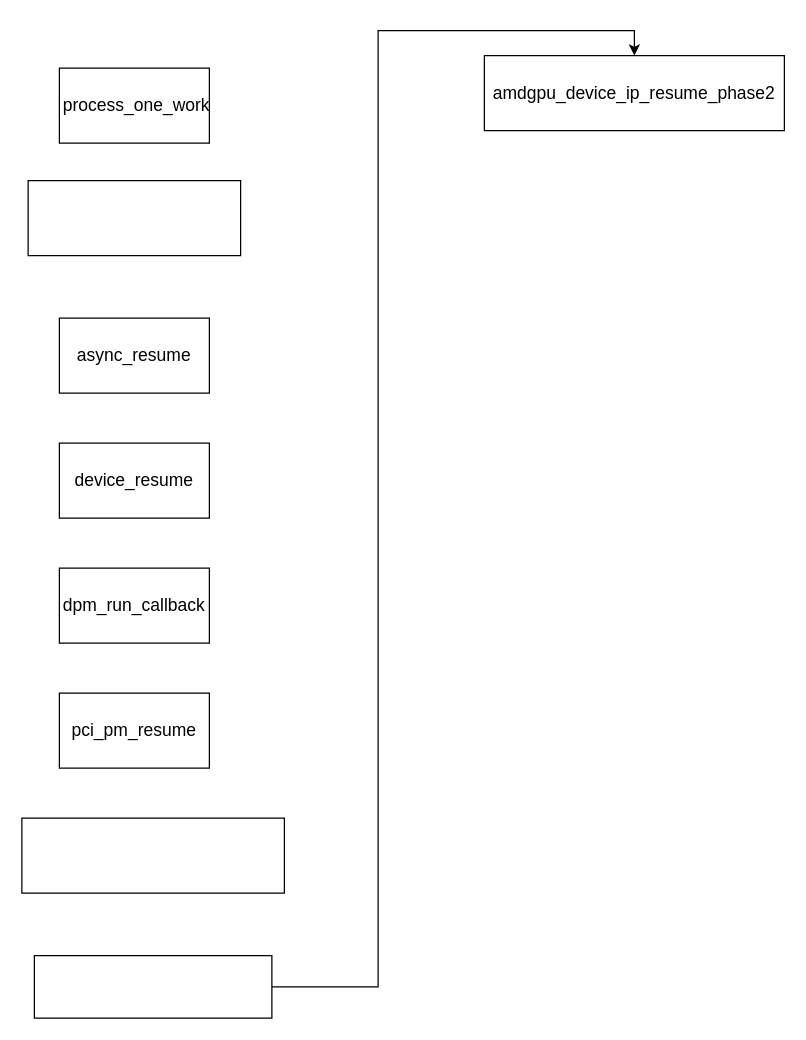
This 806x1040 diagram has some shape labels left out. The centre of each missing label's shape, as x and y in pixels:
amdgpu_device_resume: the point at 152,986
amdgpu_pmops_resume: the point at 152,855
async_run_entry_fn: the point at 134,217
